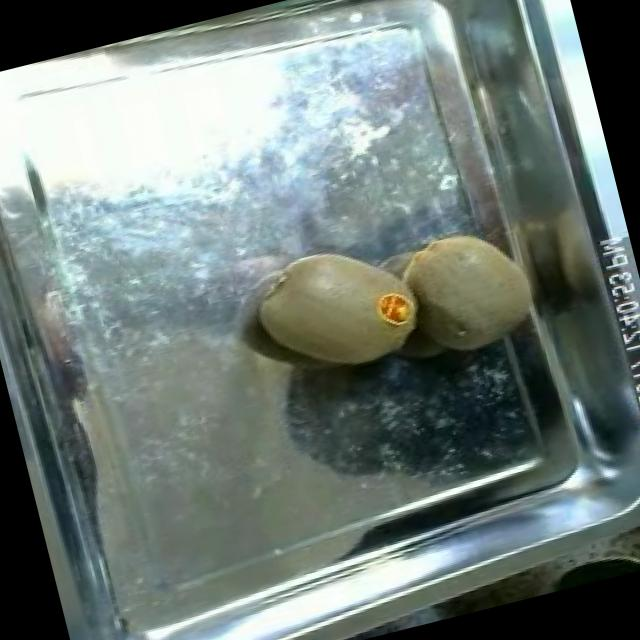Fruit: (236, 220, 438, 397), (377, 206, 553, 378)
